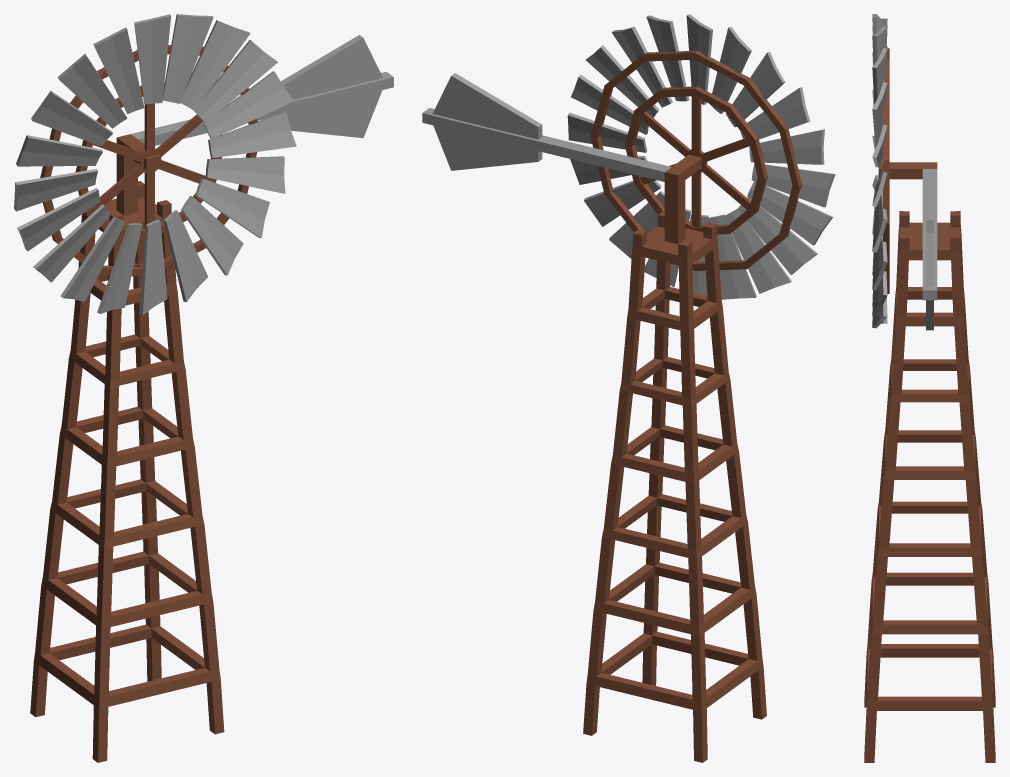
Rendered from windmill.lod.glb.
The picture shows the model from 3 angles, left to right: view 1: azimuth 30°, elevation 25°; view 2: azimuth 150°, elevation 25°; view 3: azimuth 270°, elevation 25°; orthographic projection. The views are drawn at different scales.
Visible parts, largest first — view 1: Windmill_Blades_Cube.021; view 2: Windmill_Blades_Cube.021; view 3: Windmill_Blades_Cube.021.
Boxes of the visible parts, x1,y1,x2,y2 form: Windmill_Blades_Cube.021: [14, 14, 393, 762]; Windmill_Blades_Cube.021: [422, 14, 835, 762]; Windmill_Blades_Cube.021: [864, 14, 995, 762].
Bounding box in the file's own units: 6.51 × 11.2 × 1.9.
